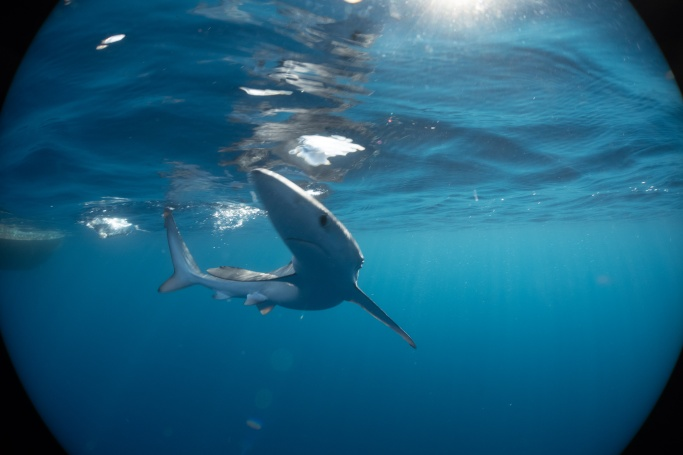Azul: (137, 146, 466, 374)
